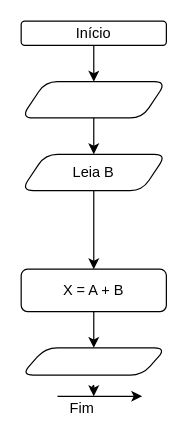
The diagram is 188 pixels wide and 448 high, and some of its shapes have lost their labels. Each missing label, with the box of its shape:
Escreva X: (20, 347, 166, 375)
Leia A: (20, 80, 166, 118)
